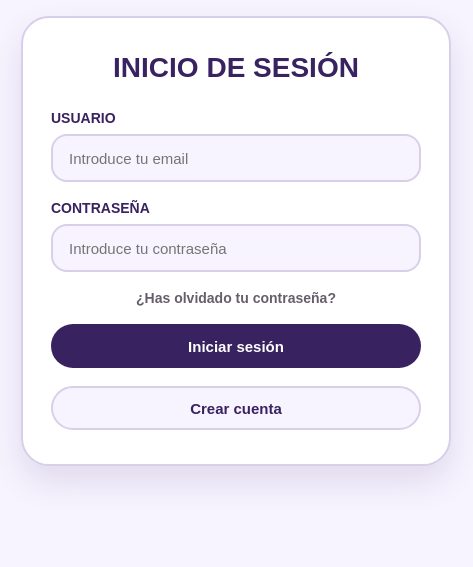
LoginView › muestra error si el backend rechaza el login
Type "bad@test.com" into the field with placeholder "Introduce tu email" at (236, 158), box [51, 134, 421, 182]
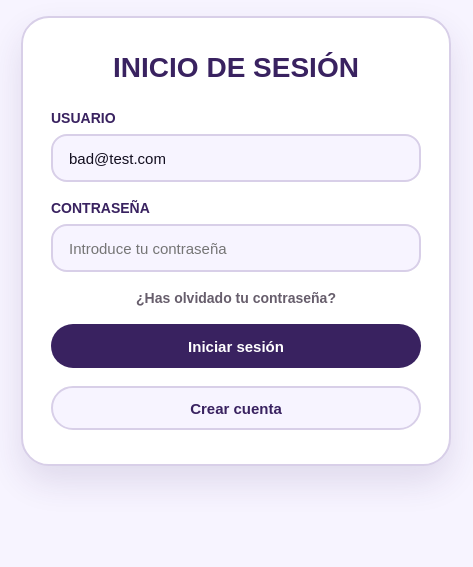
Type "wrong" into the password field with placeholder "Introduce tu contraseña" at (236, 248), box [51, 224, 421, 272]
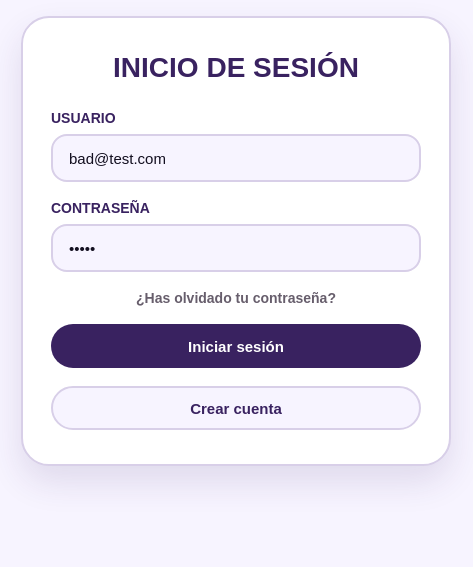
Submit the form, box [51, 110, 421, 430]
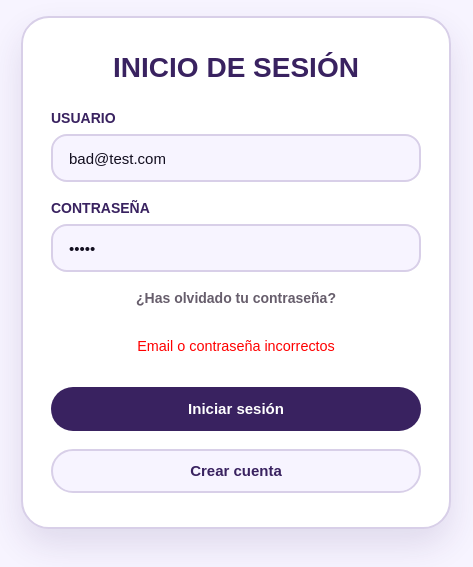
Expected: the text "Email o contraseña incorrectos" is shown, [137, 338, 335, 354]
